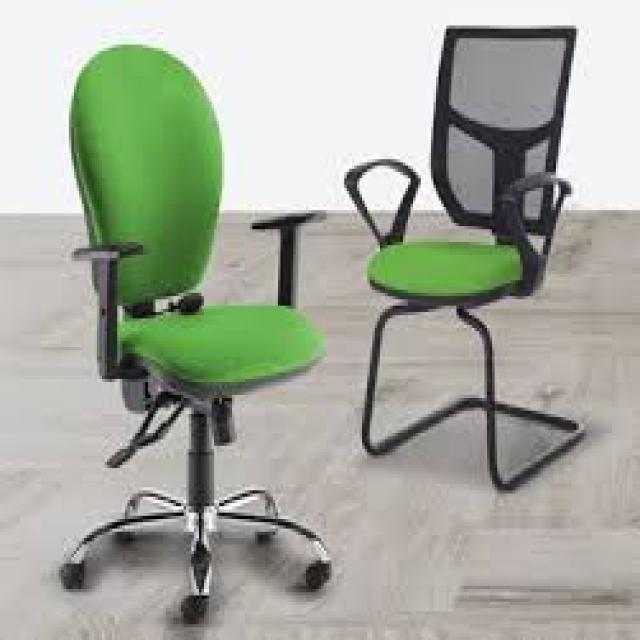chair: (6, 35, 348, 640), (330, 10, 616, 545)
